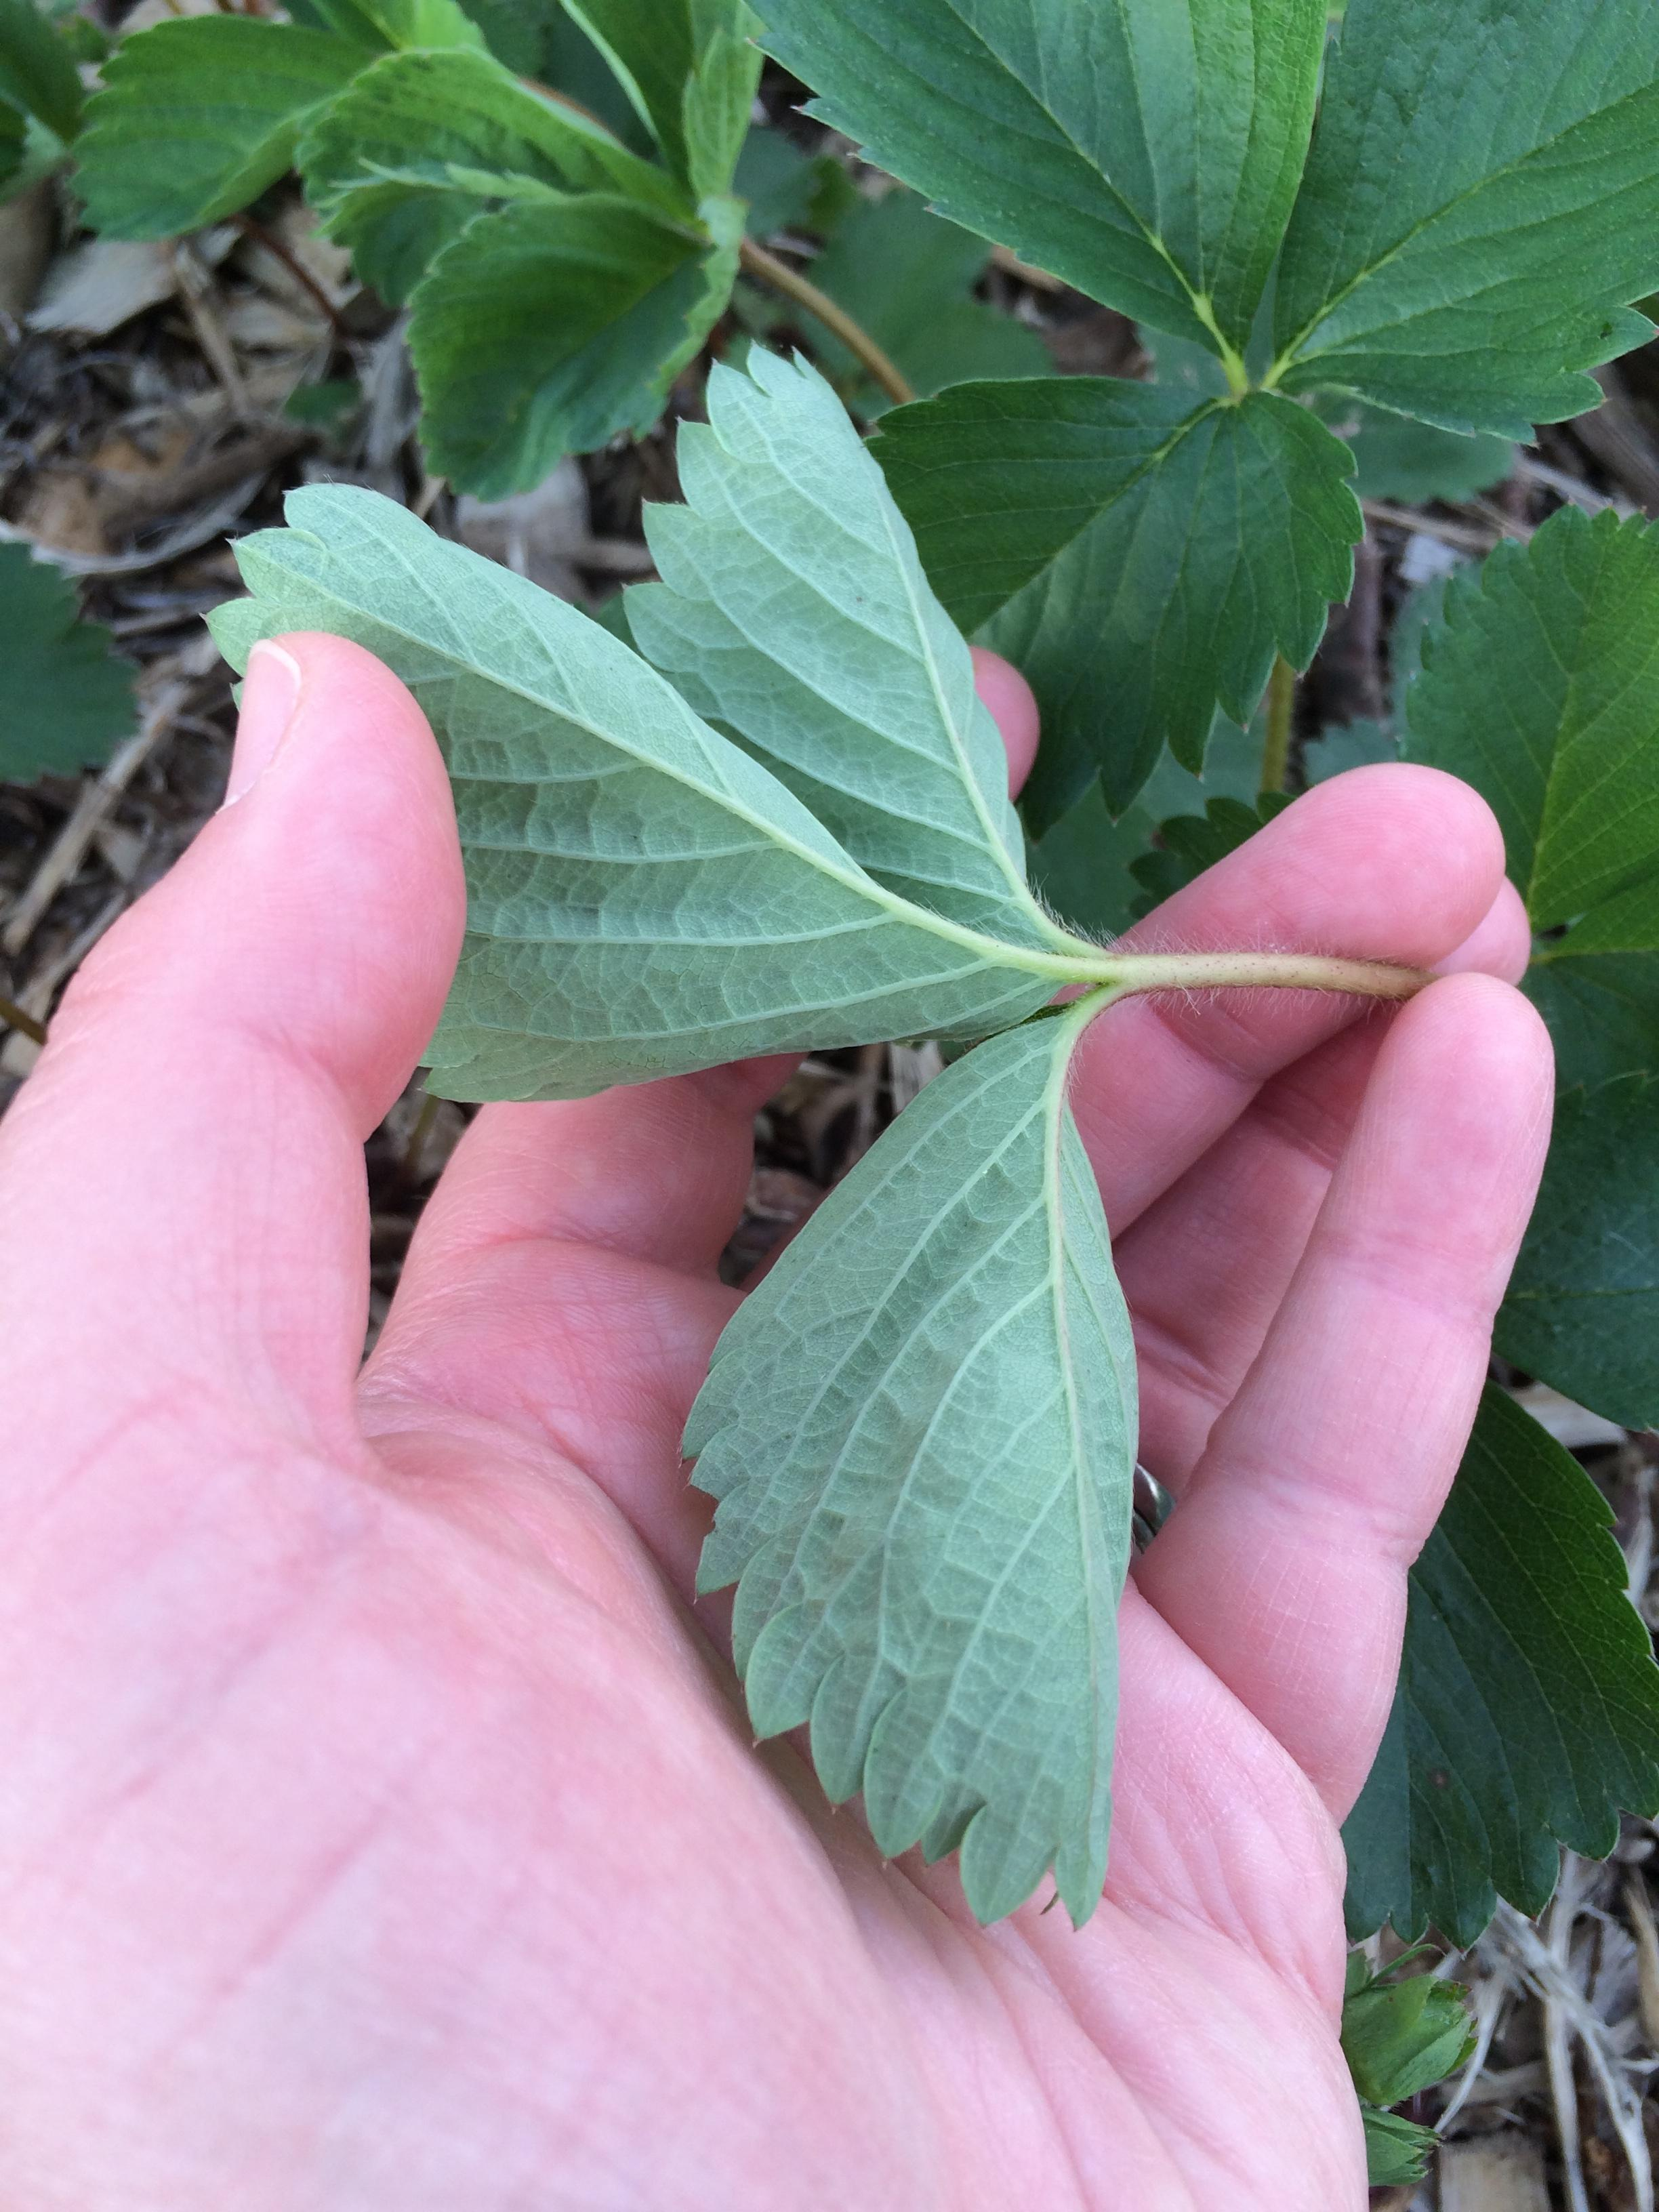Strawberry leaf: (202, 362, 1080, 1055), (690, 1001, 1206, 1949), (603, 320, 1164, 972)
